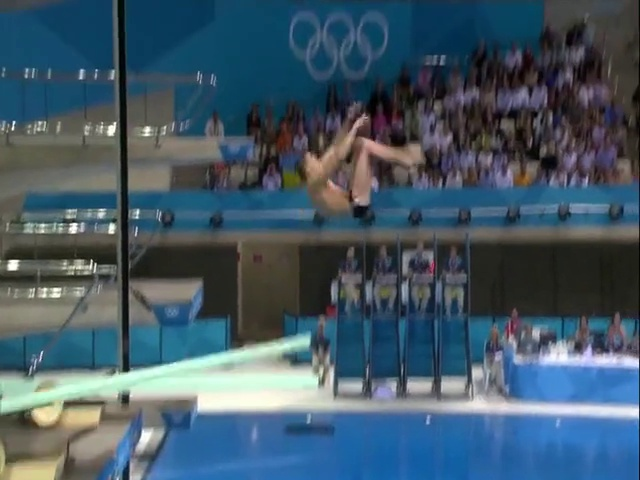diver: (295, 110, 424, 221)
